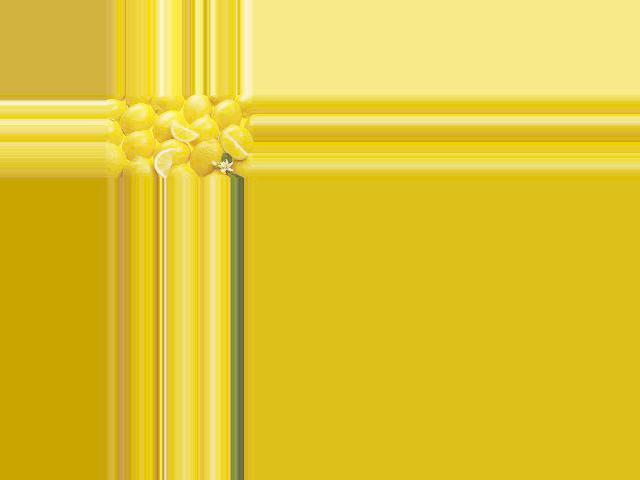lemon: (123, 151, 155, 178)
